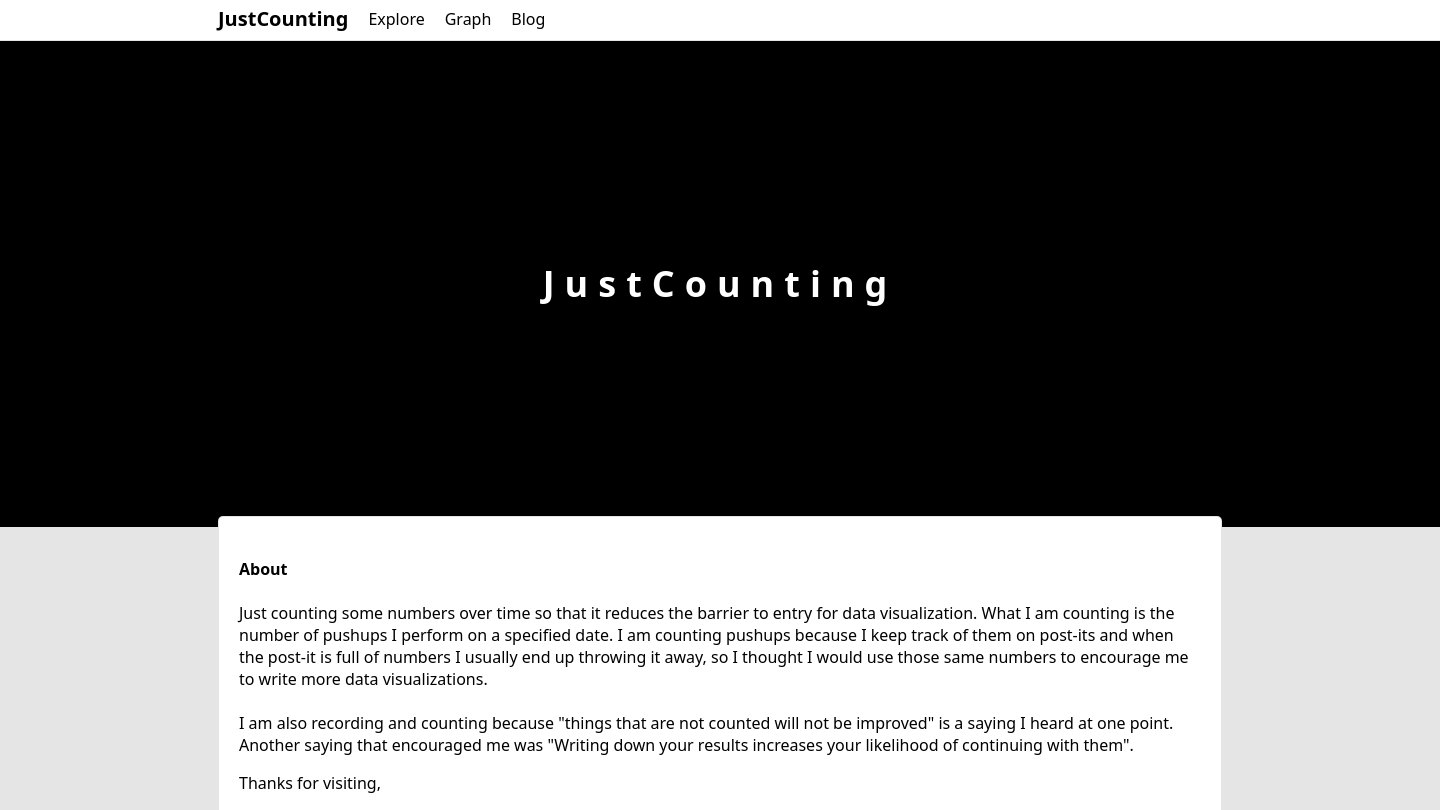
Router interactions › should render the blog component
Click the link with test id "blog": (528, 19) [511,8,545,30]
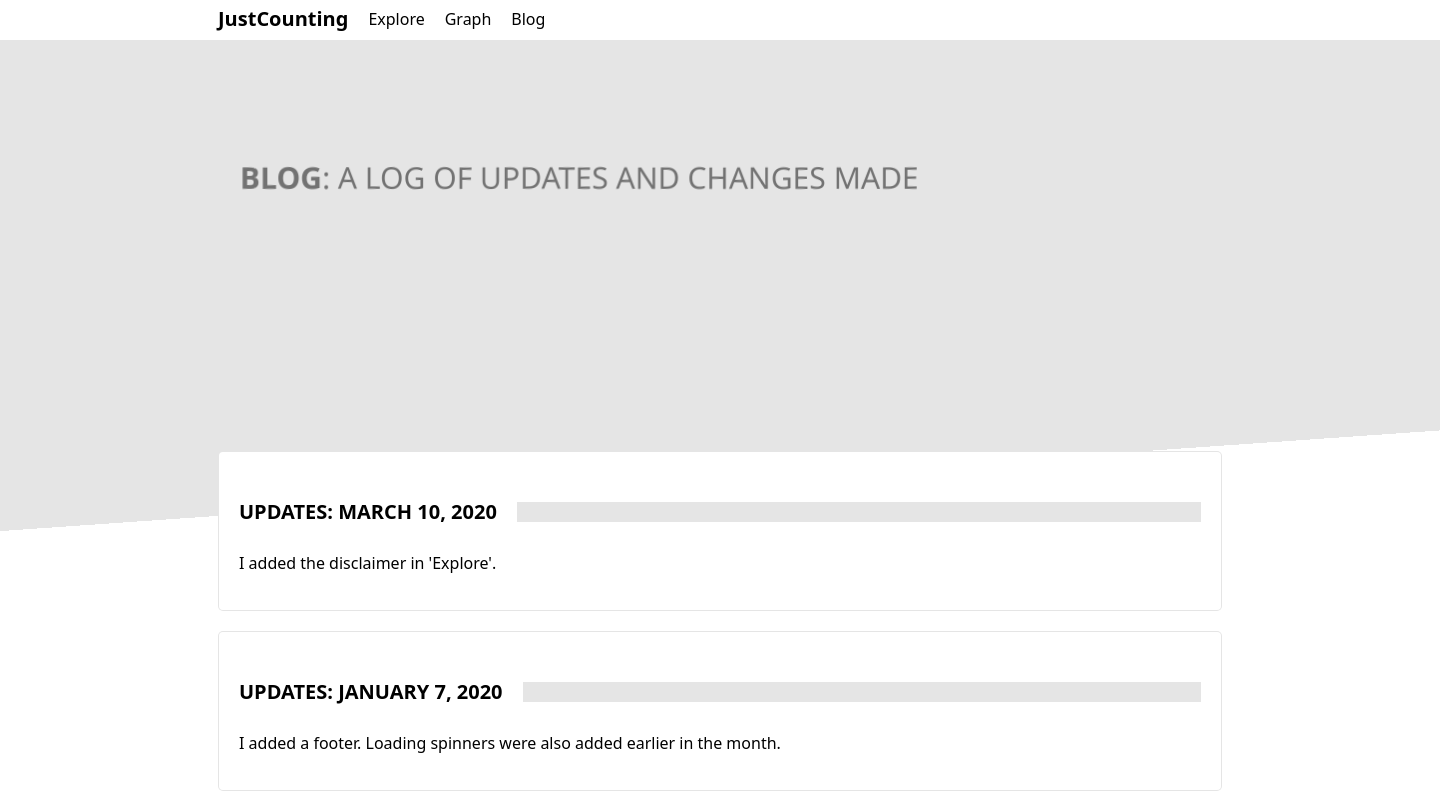
Check: the text "BLOG: A log of updates and changes made" is shown, box [240,156,919,198]
